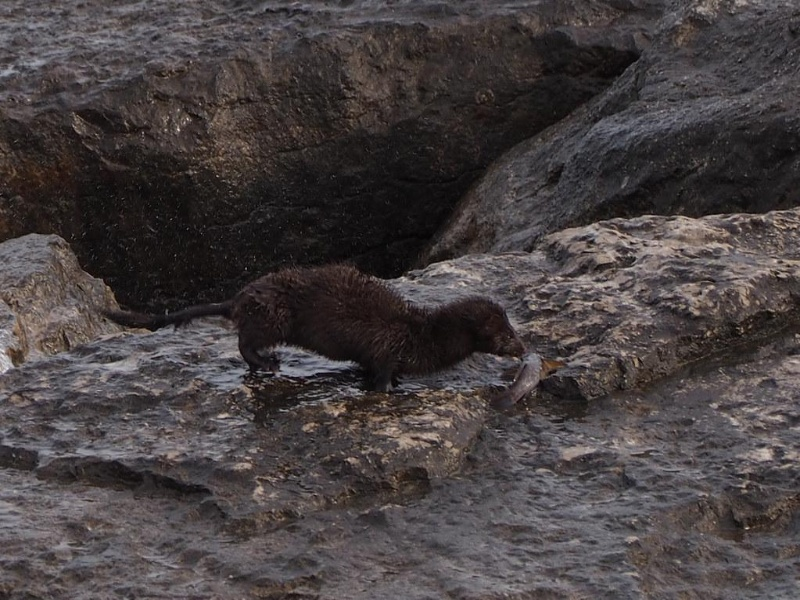minkish: (95, 265, 529, 392)
